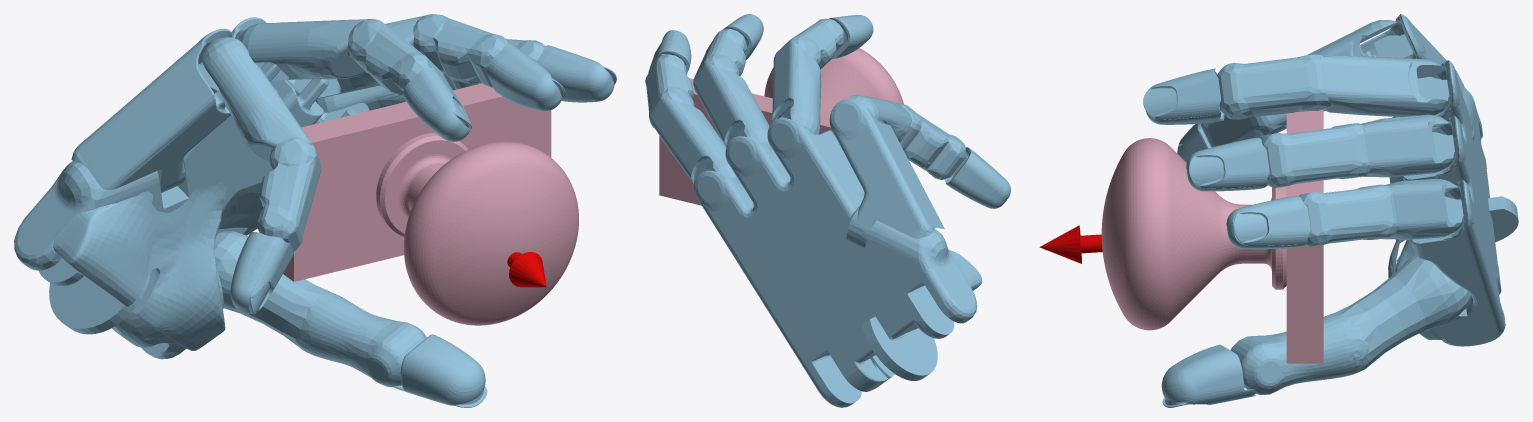
The picture shows the model from 3 angles, left to right: view 1: azimuth 30°, elevation 25°; view 2: azimuth 150°, elevation 25°; view 3: azimuth 270°, elevation 25°; orthographic projection. The views are drawn at different scales.
Parts seen in each view (by area): view 1: world, door_knob.stl; view 2: world, door_knob.stl; view 3: world, door_knob.stl.
Part boxes in pixels (bbox=[...]): world: bbox=[14, 14, 616, 407]; door_knob.stl: bbox=[283, 83, 578, 325]; world: bbox=[645, 14, 1010, 407]; door_knob.stl: bbox=[659, 48, 903, 205]; world: bbox=[1039, 14, 1518, 407]; door_knob.stl: bbox=[1101, 109, 1323, 363].
Size of the model in its own units: 0.1899 by 0.1334 by 0.162.
